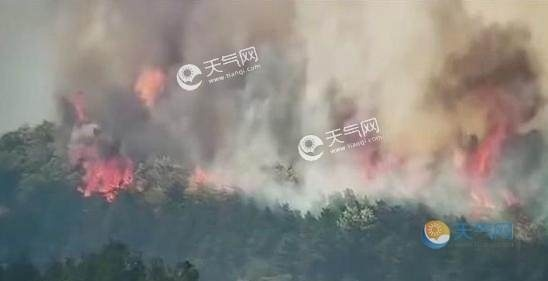fire: (67, 100, 140, 202), (130, 63, 168, 108)
